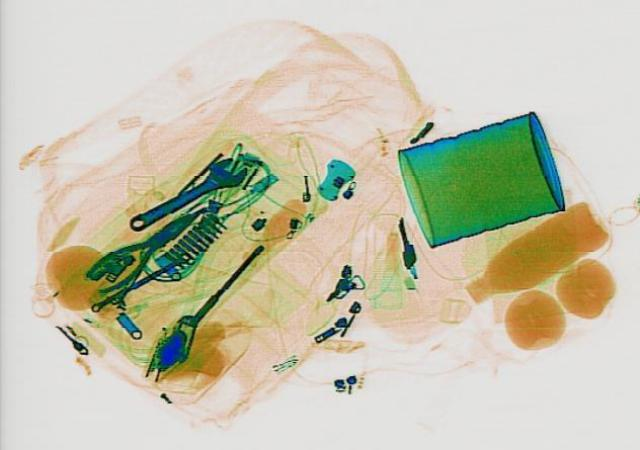Pliers: (70, 201, 214, 295)
Wrench: (112, 151, 255, 235)
